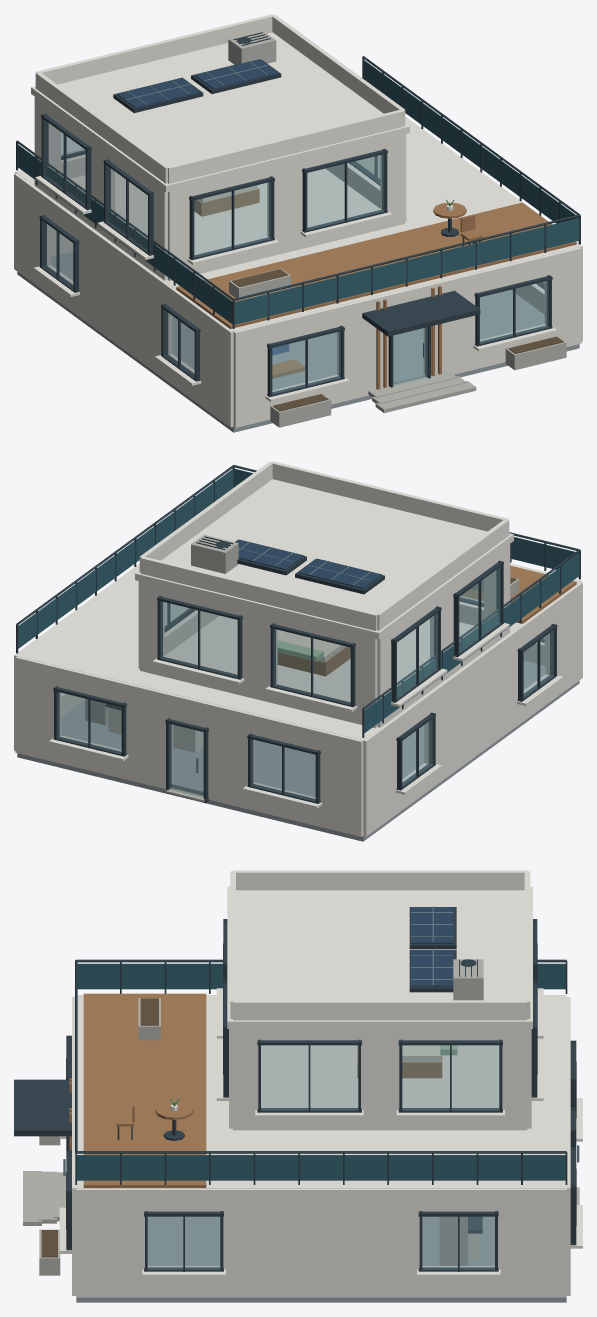
Rendered from House_10.fbx.
The picture shows the model from 3 angles, top to bottom: view 1: azimuth 30°, elevation 25°; view 2: azimuth 150°, elevation 25°; view 3: azimuth 270°, elevation 25°; orthographic projection. The views are drawn at different scales.
Parts seen in each view (by area): view 1: House_10; view 2: House_10; view 3: House_10.
Part boxes in pixels (box(x1,y1,x2,y2)): House_10: box(14, 14, 582, 432); House_10: box(14, 461, 582, 841); House_10: box(14, 870, 582, 1302).
Size of the model in its own units: 12.87 by 7.32 by 15.09.
